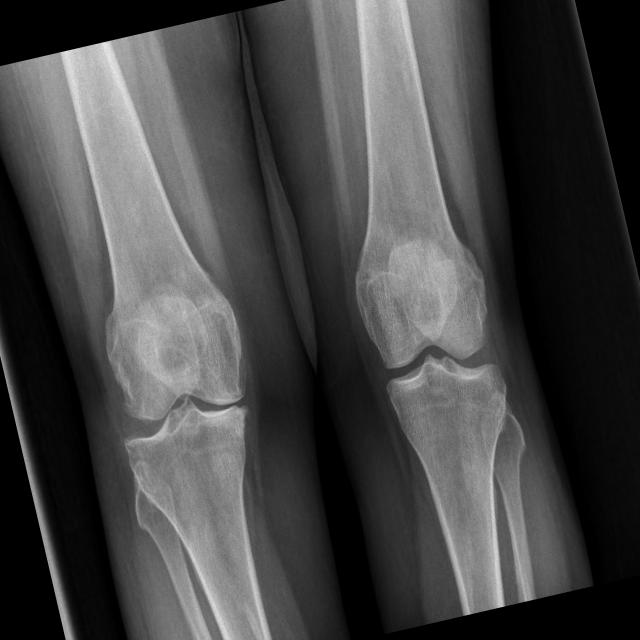Knee: (102, 337, 272, 497), (359, 285, 510, 438)
